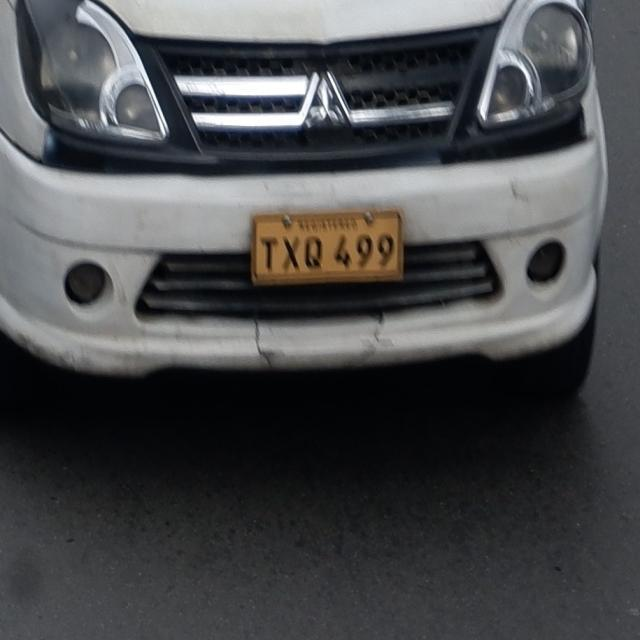LicensePlate: (248, 205, 407, 296)
